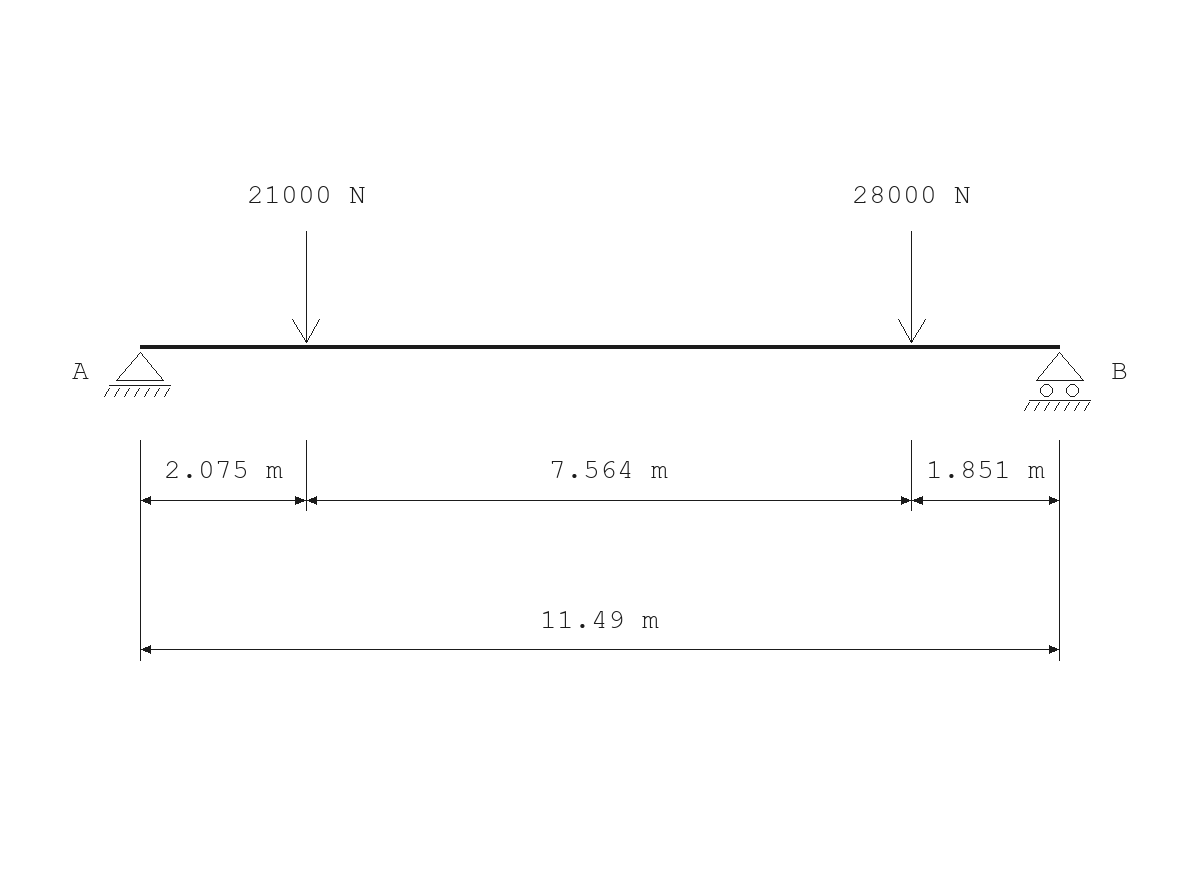pin_support: (104, 352, 171, 397)
point_load: (292, 231, 320, 343), (898, 231, 926, 343)
roller_support: (1024, 352, 1091, 411)
